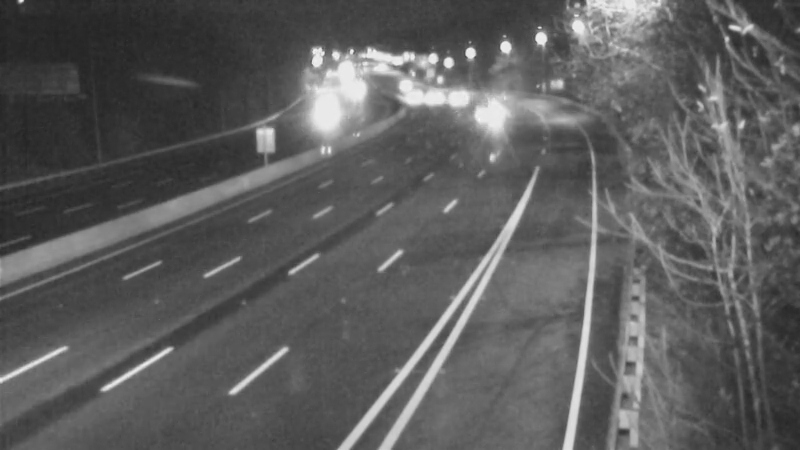vehicle: (377, 57, 427, 107), (406, 68, 456, 118), (389, 74, 439, 124), (428, 72, 478, 122), (461, 86, 511, 136), (298, 86, 348, 136)
